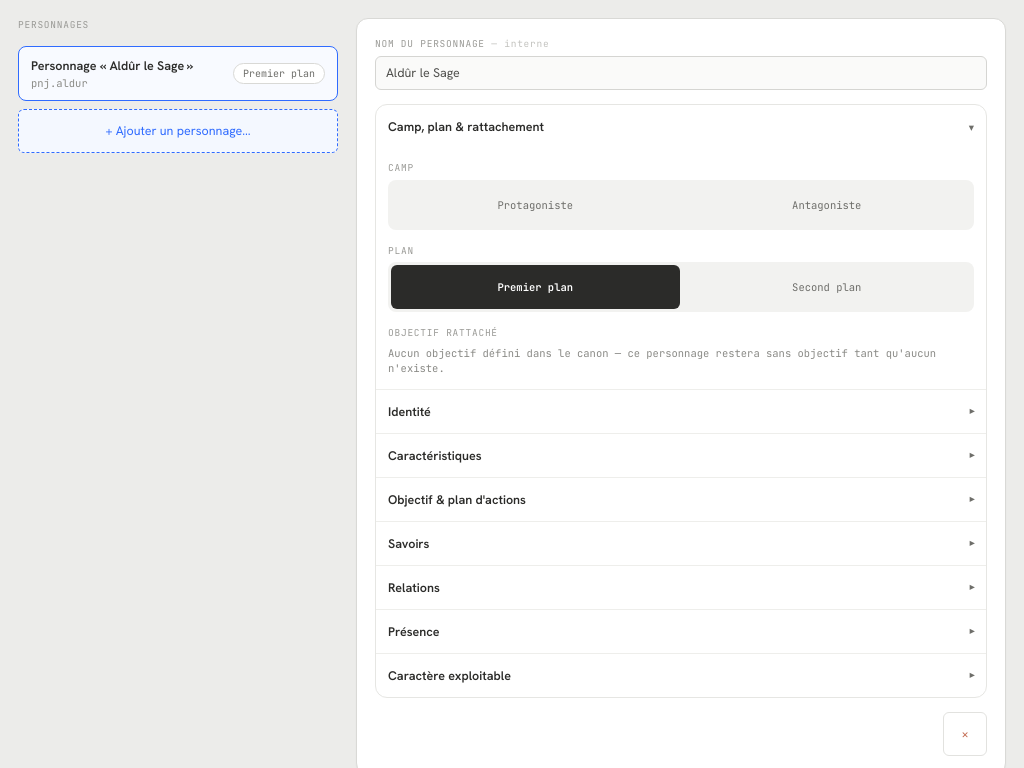
FichePersonnage - blocs Relations et Presence › un seul personnage au total, relation auto-referentielle deja ecrite reste visible et editable
This screenshot has width=1024, height=768.
Click the button "Relations ▾". click: (414, 587)
box: [376,565,986,609]
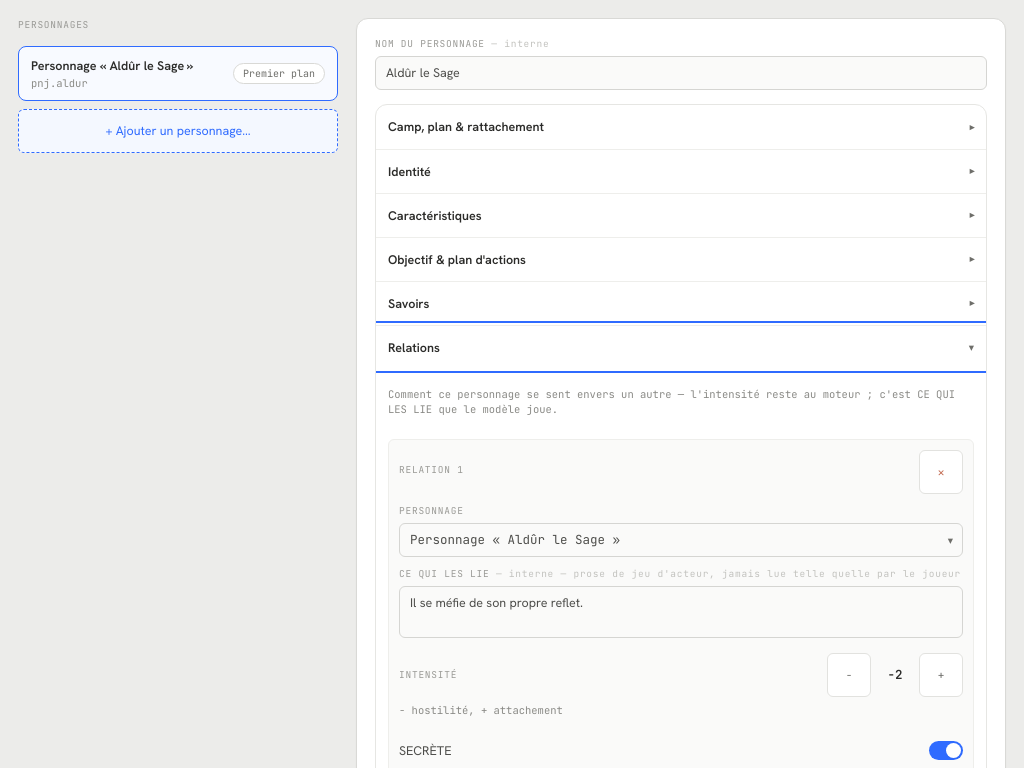
Result: the text "RELATION 1" is shown at [399,463,464,477]
Result: the text box showing "Il se méfie de son propre reflet." is shown at [399,586,963,638]
Result: the switch labelled "SECRÈTE" is checked at [399,741,963,760]
// Editable : le retrait fonctionne toujours.
Click the button named "Retirer la relation n°1". click: (941, 472)
box: [919,450,963,494]
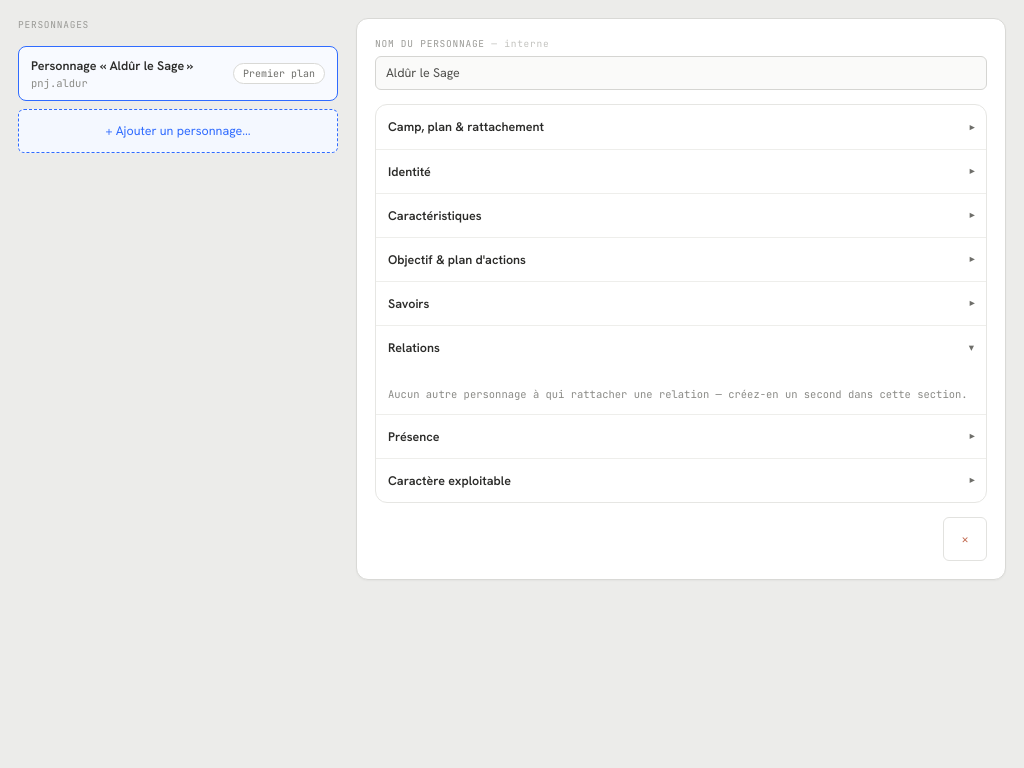
Result: the text "Aucun autre personnage à qui rattacher une relation — créez-en un second dans cette section." is shown at [388,387,968,401]
